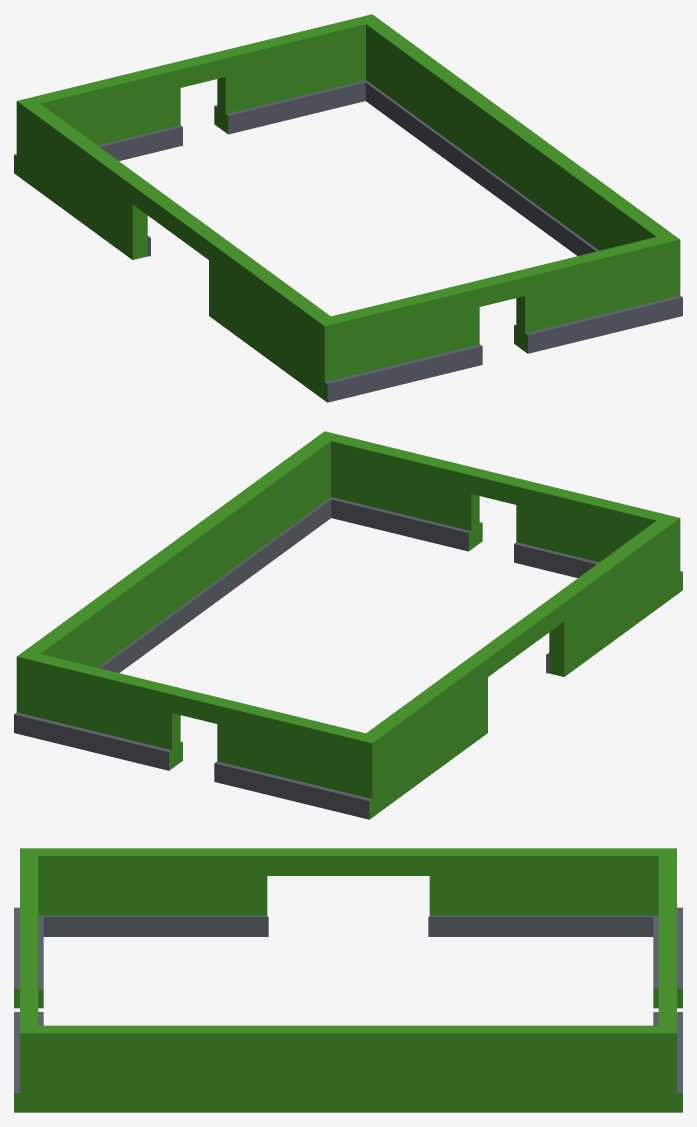
The model's file is Room_2.fbx.
3 views of the same model, one above another, from view 1: azimuth 30°, elevation 25°; view 2: azimuth 150°, elevation 25°; view 3: azimuth 270°, elevation 25° (orthographic). The views are drawn at different scales.
Parts seen in each view (by area): view 1: Room_2; view 2: Room_2; view 3: Room_2.
Part boxes in pixels (x1,y1,x2,y2): Room_2: (14,14,682,402); Room_2: (14,431,682,819); Room_2: (14,848,682,1112).
Bounding box in the file's own units: 2000 × 400 × 3055.
